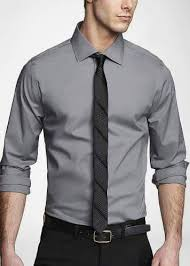F_belt: (39, 208, 161, 248)
F_shirt: (3, 26, 187, 225)
F_tie: (79, 48, 115, 236)
